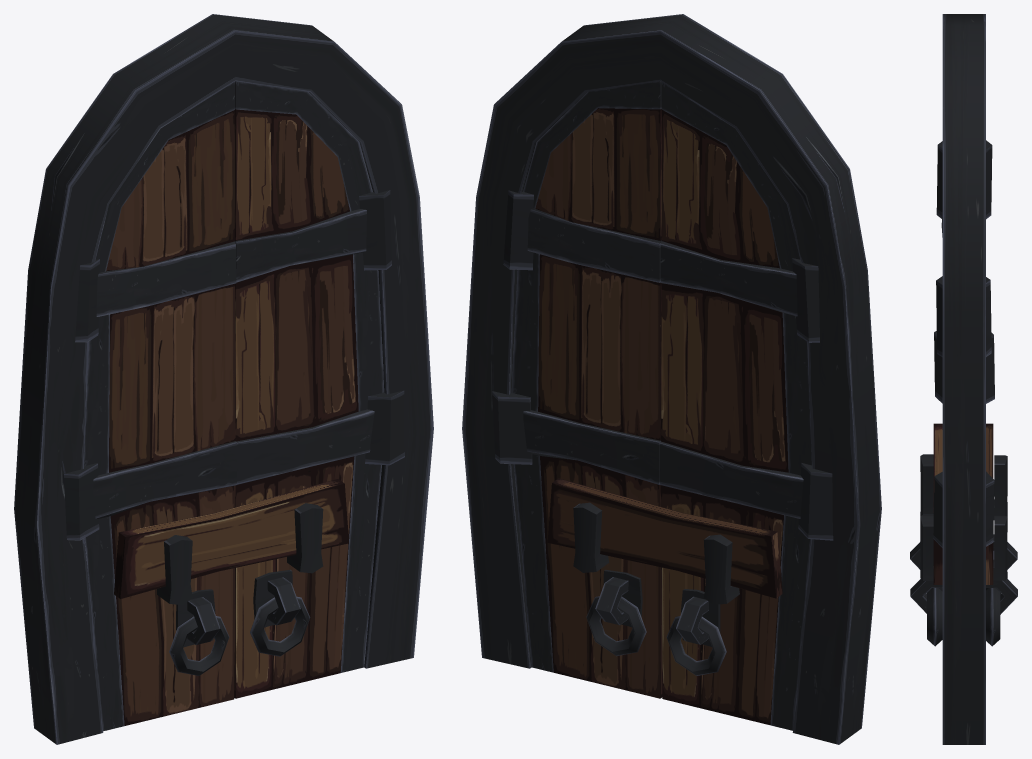
File: MOD_Gateway_Door_01_large.fbx
The picture shows the model from 3 angles, left to right: view 1: azimuth 30°, elevation 25°; view 2: azimuth 150°, elevation 25°; view 3: azimuth 270°, elevation 25°; orthographic projection. The views are drawn at different scales.
Parts seen in each view (by area): view 1: MOD_Gateway_Door_01_large, MOD_Gateway_Door_01_large_door_L, MOD_Gateway_Door_01_large_door_R; view 2: MOD_Gateway_Door_01_large, MOD_Gateway_Door_01_large_door_L, MOD_Gateway_Door_01_large_door_R; view 3: MOD_Gateway_Door_01_large, MOD_Gateway_Door_01_large_door_R, MOD_Gateway_Door_01_large_door_L.
Boxes of the visible parts, box(x1,y1,x2,y2) form: MOD_Gateway_Door_01_large: box(14, 14, 433, 744); MOD_Gateway_Door_01_large_door_L: box(84, 82, 236, 731); MOD_Gateway_Door_01_large_door_R: box(234, 81, 384, 698); MOD_Gateway_Door_01_large: box(462, 14, 881, 744); MOD_Gateway_Door_01_large_door_L: box(659, 82, 811, 730); MOD_Gateway_Door_01_large_door_R: box(511, 81, 662, 698); MOD_Gateway_Door_01_large: box(933, 14, 994, 744); MOD_Gateway_Door_01_large_door_R: box(910, 514, 1017, 646); MOD_Gateway_Door_01_large_door_L: box(910, 212, 1017, 593).
Bounding box in the file's own units: 362 × 584 × 89.71.
